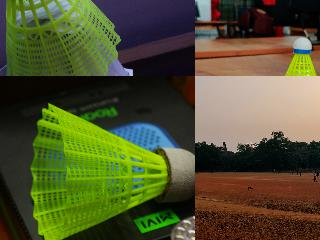shuttlecock: (30, 102, 194, 239), (0, 0, 120, 75), (278, 37, 319, 75)
